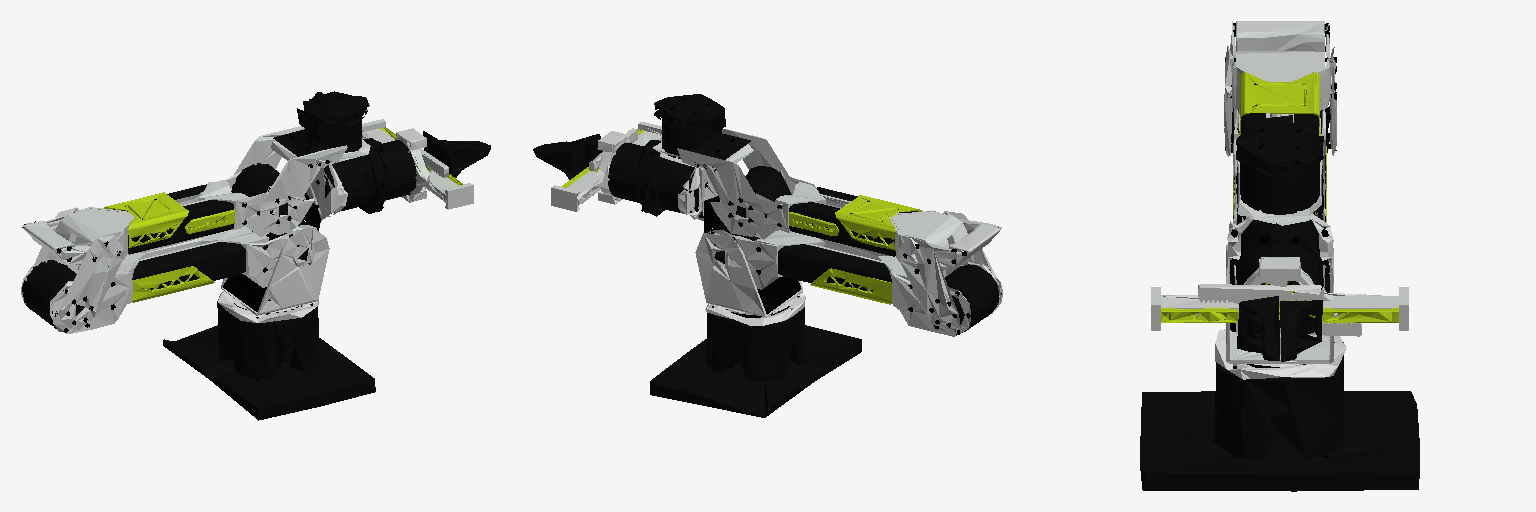
robot.urdf — ReBot_Arm_DM:
<?xml version='1.0' encoding='utf-8'?>
<robot name="ReBot_Arm_DM">
  <material name="gripper_finger_black">
    <color rgba="0.066667 0.074510 0.070588 1" />
  </material>
  <material name="gripper_carriage_grey">
    <color rgba="0.239 0.278 0.271 1" />
  </material>
  <material name="gripper_rack_metal">
    <color rgba="0.831373 0.847059 0.831373 1" />
  </material>
  <material name="gripper_seeed_yellow">
    <color rgba="0.725 0.835 0.118 1" />
  </material>
  <material name="gripper_hardware_black">
    <color rgba="0.019608 0.027451 0.023529 1" />
  </material>
  <material name="gripper_base_metal">
    <color rgba="0.831373 0.847059 0.831373 1" />
  </material>
  <material name="anodized_grey">
    <color rgba="0.831373 0.847059 0.831373 1" />
  </material>
  <material name="silver_trim">
    <color rgba="0.878431 0.890196 0.874510 1" />
  </material>
  <material name="seeed_yellow">
    <color rgba="0.73 0.84 0.12 1" />
  </material>
  <material name="matte_black">
    <color rgba="0.066667 0.074510 0.070588 1" />
  </material>
  <material name="hardware_black">
    <color rgba="0.019608 0.027451 0.023529 1" />
  </material>
  <link name="base_link">
    <inertial>
      <origin xyz="-7.849E-06 -1.1531E-06 0.029841" rpy="0 0 0" />
      <mass value="0.83660000" />
      <inertia ixx="0.00133040" ixy="0.00000001" ixz="0.00000000" iyy="0.00213119" iyz="0.00000000" izz="0.00275877" />
    </inertial>
    <visual name="base_link_silver_trim">
      <origin xyz="0 0 0" rpy="0 0 0" />
      <geometry>
        <mesh filename="../meshes/visual_lite/colored_base_link_silver_trim.stl" />
      </geometry>
      <material name="silver_trim" />
    </visual>
    <visual name="base_link_hardware_black">
      <origin xyz="0 0 0" rpy="0 0 0" />
      <geometry>
        <mesh filename="../meshes/visual_lite/colored_base_link_hardware_black.stl" />
      </geometry>
      <material name="hardware_black" />
    </visual>
    <visual name="base_link_matte_black">
      <origin xyz="0 0 0" rpy="0 0 0" />
      <geometry>
        <mesh filename="../meshes/visual_lite/colored_base_link_matte_black.stl" />
      </geometry>
      <material name="matte_black" />
    </visual>
    <collision>
      <origin xyz="0 0 0" rpy="0 0 0" />
      <geometry>
        <mesh filename="../meshes/collision/base_link.STL" />
      </geometry>
    </collision>
  </link>
  <link name="link1">
    <inertial>
      <origin xyz="0.000113614552951627 -0.000616319527051323 0.0236476372671394" rpy="0 0 0" />
      <mass value="0.16130000" />
      <inertia ixx="0.00025207" ixy="0.00000000" ixz="-0.00002832" iyy="0.00015464" iyz="0.00000000" izz="0.00023416" />
    </inertial>
    <visual name="link1_matte_black">
      <origin xyz="0 0 0" rpy="0 0 0" />
      <geometry>
        <mesh filename="../meshes/visual_lite/colored_link1_matte_black.stl" />
      </geometry>
      <material name="matte_black" />
    </visual>
    <visual name="link1_hardware_black">
      <origin xyz="0 0 0" rpy="0 0 0" />
      <geometry>
        <mesh filename="../meshes/visual_lite/colored_link1_hardware_black.stl" />
      </geometry>
      <material name="hardware_black" />
    </visual>
    <visual name="link1_anodized_grey">
      <origin xyz="0 0 0" rpy="0 0 0" />
      <geometry>
        <mesh filename="../meshes/visual_lite/colored_link1_anodized_grey.stl" />
      </geometry>
      <material name="anodized_grey" />
    </visual>
    <collision>
      <origin xyz="0 0 0" rpy="0 0 0" />
      <geometry>
        <mesh filename="../meshes/collision/link1.STL" />
      </geometry>
    </collision>
  </link>
  <joint name="joint1" type="revolute">
    <origin xyz="-8.416E-05 0 0.08465" rpy="0 0 0" />
    <parent link="base_link" />
    <child link="link1" />
    <axis xyz="0 0 1" />
    <limit lower="-2.8" upper="2.8" effort="27" velocity="50" />
  </joint>
  <link name="link2">
    <inertial>
      <origin xyz="-0.13225622308888 -0.0030617036386309 -0.0308306967030205" rpy="0 0 0" />
      <mass value="1.32660000" />
      <inertia ixx="0.00073374" ixy="-0.00000043" ixz="0.00000851" iyy="0.01255987" iyz="0.00000128" izz="0.01281387" />
    </inertial>
    <visual name="link2_seeed_yellow">
      <origin xyz="0 0 0" rpy="0 0 0" />
      <geometry>
        <mesh filename="../meshes/visual_lite/colored_link2_seeed_yellow.stl" />
      </geometry>
      <material name="seeed_yellow" />
    </visual>
    <visual name="link2_matte_black">
      <origin xyz="0 0 0" rpy="0 0 0" />
      <geometry>
        <mesh filename="../meshes/visual_lite/colored_link2_matte_black.stl" />
      </geometry>
      <material name="matte_black" />
    </visual>
    <visual name="link2_hardware_black">
      <origin xyz="0 0 0" rpy="0 0 0" />
      <geometry>
        <mesh filename="../meshes/visual_lite/colored_link2_hardware_black.stl" />
      </geometry>
      <material name="hardware_black" />
    </visual>
    <visual name="link2_anodized_grey">
      <origin xyz="0 0 0" rpy="0 0 0" />
      <geometry>
        <mesh filename="../meshes/visual_lite/colored_link2_anodized_grey.stl" />
      </geometry>
      <material name="anodized_grey" />
    </visual>
    <collision>
      <origin xyz="0 0 0" rpy="0 0 0" />
      <geometry>
        <mesh filename="../meshes/collision/link2.STL" />
      </geometry>
    </collision>
  </link>
  <joint name="joint2" type="revolute">
    <origin xyz="0.020084 0.031625 0.05555" rpy="-1.5708 0 0" />
    <parent link="link1" />
    <child link="link2" />
    <axis xyz="0 0 -1" />
    <limit lower="-3.14" upper="0" effort="27" velocity="50" />
  </joint>
  <link name="link3">
    <inertial>
      <origin xyz="0.121040035791843 -0.0536211076627949 -0.0310137854608077" rpy="0 0 0" />
      <mass value="0.83530000" />
      <inertia ixx="0.00046807" ixy="-0.00003456" ixz="-0.00004260" iyy="0.00632695" iyz="0.00000006" izz="0.00648221" />
    </inertial>
    <visual name="link3_seeed_yellow">
      <origin xyz="0 0 0" rpy="0 0 0" />
      <geometry>
        <mesh filename="../meshes/visual_lite/colored_link3_seeed_yellow.stl" />
      </geometry>
      <material name="seeed_yellow" />
    </visual>
    <visual name="link3_matte_black">
      <origin xyz="0 0 0" rpy="0 0 0" />
      <geometry>
        <mesh filename="../meshes/visual_lite/colored_link3_matte_black.stl" />
      </geometry>
      <material name="matte_black" />
    </visual>
    <visual name="link3_hardware_black">
      <origin xyz="0 0 0" rpy="0 0 0" />
      <geometry>
        <mesh filename="../meshes/visual_lite/colored_link3_hardware_black.stl" />
      </geometry>
      <material name="hardware_black" />
    </visual>
    <visual name="link3_anodized_grey">
      <origin xyz="0 0 0" rpy="0 0 0" />
      <geometry>
        <mesh filename="../meshes/visual_lite/colored_link3_anodized_grey.stl" />
      </geometry>
      <material name="anodized_grey" />
    </visual>
    <collision>
      <origin xyz="0 0 0" rpy="0 0 0" />
      <geometry>
        <mesh filename="../meshes/collision/link3.STL" />
      </geometry>
    </collision>
  </link>
  <joint name="joint3" type="revolute">
    <origin xyz="-0.264 0 0" rpy="0 0 0" />
    <parent link="link2" />
    <child link="link3" />
    <axis xyz="0 0 1" />
    <limit lower="-3.14" upper="0" effort="27" velocity="50" />
  </joint>
  <link name="link4">
    <inertial>
      <origin xyz="0.0608200956293136 -0.0511711906613122 -0.030299458623927" rpy="0 0 0" />
      <mass value="0.52000000" />
      <inertia ixx="0.00045986" ixy="0.00024219" ixz="-0.00000672" iyy="0.00075258" iyz="-0.00000535" izz="0.00066742" />
    </inertial>
    <visual name="link4_seeed_yellow">
      <origin xyz="0 0 0" rpy="0 0 0" />
      <geometry>
        <mesh filename="../meshes/visual_lite/colored_link4_seeed_yellow.stl" />
      </geometry>
      <material name="matte_black" />
    </visual>
    <visual name="link4_matte_black">
      <origin xyz="0 0 0" rpy="0 0 0" />
      <geometry>
        <mesh filename="../meshes/visual_lite/colored_link4_matte_black.stl" />
      </geometry>
      <material name="matte_black" />
    </visual>
    <visual name="link4_hardware_black">
      <origin xyz="0 0 0" rpy="0 0 0" />
      <geometry>
        <mesh filename="../meshes/visual_lite/colored_link4_hardware_black.stl" />
      </geometry>
      <material name="hardware_black" />
    </visual>
    <visual name="link4_anodized_grey">
      <origin xyz="0 0 0" rpy="0 0 0" />
      <geometry>
        <mesh filename="../meshes/visual_lite/colored_link4_anodized_grey.stl" />
      </geometry>
      <material name="anodized_grey" />
    </visual>
    <collision>
      <origin xyz="0 0 0" rpy="0 0 0" />
      <geometry>
        <mesh filename="../meshes/collision/link4.STL" />
      </geometry>
    </collision>
  </link>
  <joint name="joint4" type="revolute">
    <origin xyz="0.2426 -0.054 -0.001625" rpy="0 0 0" />
    <parent link="link3" />
    <child link="link4" />
    <axis xyz="0 0 1" />
    <limit lower="-1.87" upper="1.57" effort="7" velocity="200" />
  </joint>
  <link name="link5">
    <inertial>
      <origin xyz="-0.00502802058982517 1.73866206692364E-06 0.0386233236326755" rpy="0 0 0" />
      <mass value="0.38300000" />
      <inertia ixx="0.00019772" ixy="-0.00000062" ixz="-0.00002426" iyy="0.00021737" iyz="0.00000002" izz="0.00017191" />
    </inertial>
    <visual name="link5_matte_black">
      <origin xyz="0 0 0" rpy="0 0 0" />
      <geometry>
        <mesh filename="../meshes/visual_lite/colored_link5_matte_black.stl" />
      </geometry>
      <material name="matte_black" />
    </visual>
    <visual name="link5_hardware_black">
      <origin xyz="0 0 0" rpy="0 0 0" />
      <geometry>
        <mesh filename="../meshes/visual_lite/colored_link5_hardware_black.stl" />
      </geometry>
      <material name="hardware_black" />
    </visual>
    <visual name="link5_anodized_grey">
      <origin xyz="0 0 0" rpy="0 0 0" />
      <geometry>
        <mesh filename="../meshes/visual_lite/colored_link5_anodized_grey.stl" />
      </geometry>
      <material name="anodized_grey" />
    </visual>
    <collision>
      <origin xyz="0 0 0" rpy="0 0 0" />
      <geometry>
        <mesh filename="../meshes/collision/link5.STL" />
      </geometry>
    </collision>
  </link>
  <joint name="joint5" type="revolute">
    <origin xyz="0.078308 -0.0375 -0.03" rpy="-1.5708 0 0" />
    <parent link="link4" />
    <child link="link5" />
    <axis xyz="0 0 1" />
    <limit lower="-1.57" upper="1.57" effort="7" velocity="200" />
  </joint>
  <link name="link6">
    <inertial>
      <origin xyz="3.76418727127126E-06 -0.000100908819946677 0.0253308606425965" rpy="0 0 0" />
      <mass value="0.36630000" />
      <inertia ixx="0.00015554" ixy="-0.00000" ixz="-0.00000" iyy="0.00015554" iyz="-0.0000" izz="0.00013966" />
    </inertial>
    <visual name="link6_matte_black">
      <origin xyz="0 0 0" rpy="0 0 0" />
      <geometry>
        <mesh filename="../meshes/visual_lite/colored_link6_matte_black.stl" />
      </geometry>
      <material name="matte_black" />
    </visual>
    <visual name="link6_hardware_black">
      <origin xyz="0 0 0" rpy="0 0 0" />
      <geometry>
        <mesh filename="../meshes/visual_lite/colored_link6_hardware_black.stl" />
      </geometry>
      <material name="hardware_black" />
    </visual>
    <collision>
      <origin xyz="0 0 0" rpy="0 0 0" />
      <geometry>
        <mesh filename="../meshes/collision/link6.STL" />
      </geometry>
    </collision>
  </link>
  <joint name="joint6" type="revolute">
    <origin xyz="0.028008 0 0.04" rpy="0 1.5708 0" />
    <parent link="link5" />
    <child link="link6" />
    <axis xyz="0 0 1" />
    <limit lower="-3.14" upper="3.14" effort="7" velocity="200" />
  </joint>
  <link name="end_link">
    <inertial>
      <origin xyz="-0.0737654295815033 -9.5080995865868E-06 7.04327840286845E-06" rpy="0 0 0" />
      <mass value="0.5000000" />
      <inertia ixx="0.00037354" ixy="-0.00000011" ixz="0.00000050" iyy="0.00015830" iyz="0.00000348" izz="0.00045353" />
    </inertial>
    <visual name="gripper_base_seeed_yellow">
      <origin xyz="0 0 0" rpy="0 0 0" />
      <geometry>
        <mesh filename="../meshes/visual_lite/colored_gripper_base_seeed_yellow.stl" />
      </geometry>
      <material name="gripper_seeed_yellow" />
    </visual>
    <visual name="gripper_base_hardware_black">
      <origin xyz="0 0 0" rpy="0 0 0" />
      <geometry>
        <mesh filename="../meshes/visual_lite/colored_gripper_base_hardware_black.stl" />
      </geometry>
      <material name="gripper_hardware_black" />
    </visual>
    <visual name="gripper_base_metal">
      <origin xyz="0 0 0" rpy="0 0 0" />
      <geometry>
        <mesh filename="../meshes/visual_lite/colored_gripper_base_metal.stl" />
      </geometry>
      <material name="gripper_base_metal" />
    </visual>
    <collision>
      <origin xyz="0 0 0" rpy="0 0 0" />
      <geometry>
        <mesh filename="../meshes/collision/gripper_base.stl" />
      </geometry>
    </collision>
  </link>
  <joint name="end_joint" type="fixed">
    <origin xyz="0 0 0.15539" rpy="0 -1.5708 3.1415" />
    <parent link="link6" />
    <child link="end_link" />
    <axis xyz="0 0 0" />
  </joint>
  <link name="finger_left_link">
    <visual name="finger_left_body">
      <origin xyz="0 0 0" rpy="0 0 0" />
      <geometry>
        <mesh filename="../meshes/visual_lite/colored_left_finger_finger_black.stl" />
      </geometry>
      <material name="gripper_finger_black" />
    </visual>
    <visual name="finger_left_carriage">
      <origin xyz="0 0 0" rpy="0 0 0" />
      <geometry>
        <mesh filename="../meshes/shared/colored_left_finger_carriage_grey.stl" />
      </geometry>
      <material name="gripper_carriage_grey" />
    </visual>
    <visual name="finger_left_travel_stop">
      <origin xyz="0 0 0" rpy="0 0 0" />
      <geometry>
        <mesh filename="../meshes/shared/colored_left_finger_travel_stop_yellow.stl" />
      </geometry>
      <material name="gripper_seeed_yellow" />
    </visual>
    <visual name="finger_left_crossed_rack">
      <origin xyz="0 0 0" rpy="0 0 0" />
      <geometry>
        <mesh filename="../meshes/visual_lite/colored_left_finger_rack_metal.stl" />
      </geometry>
      <material name="gripper_rack_metal" />
    </visual>
    <collision>
      <origin xyz="0 0 0" rpy="0 0 0" />
      <geometry>
        <mesh filename="../meshes/collision/left_finger.stl" />
      </geometry>
    </collision>
  </link>
  <joint name="finger_left" type="prismatic">
    <origin xyz="0 0 0" rpy="0 0 0" />
    <parent link="end_link" />
    <child link="finger_left_link" />
    <axis xyz="0 1 0" />
    <limit lower="0" upper="0.05" effort="8" velocity="0.08" />
  </joint>
  <link name="finger_right_link">
    <visual name="finger_right_body">
      <origin xyz="0 0 0" rpy="0 0 0" />
      <geometry>
        <mesh filename="../meshes/visual_lite/colored_right_finger_finger_black.stl" />
      </geometry>
      <material name="gripper_finger_black" />
    </visual>
    <visual name="finger_right_carriage">
      <origin xyz="0 0 0" rpy="0 0 0" />
      <geometry>
        <mesh filename="../meshes/shared/colored_right_finger_carriage_grey.stl" />
      </geometry>
      <material name="gripper_carriage_grey" />
    </visual>
    <visual name="finger_right_travel_stop">
      <origin xyz="0 0 0" rpy="0 0 0" />
      <geometry>
        <mesh filename="../meshes/shared/colored_right_finger_travel_stop_yellow.stl" />
      </geometry>
      <material name="gripper_seeed_yellow" />
    </visual>
    <visual name="finger_right_crossed_rack">
      <origin xyz="0 0 0" rpy="0 0 0" />
      <geometry>
        <mesh filename="../meshes/visual_lite/colored_right_finger_rack_metal.stl" />
      </geometry>
      <material name="gripper_rack_metal" />
    </visual>
    <collision>
      <origin xyz="0 0 0" rpy="0 0 0" />
      <geometry>
        <mesh filename="../meshes/collision/right_finger.stl" />
      </geometry>
    </collision>
  </link>
  <joint name="finger_right" type="prismatic">
    <origin xyz="0 0 0" rpy="0 0 0" />
    <parent link="end_link" />
    <child link="finger_right_link" />
    <axis xyz="0 1 0" />
    <limit lower="-0.05" upper="0" effort="8" velocity="0.08" />
    <mimic joint="finger_left" multiplier="-1" offset="0" />
  </joint>
</robot>

--- What the picture shows (computed from the rendered views, not written in the file) ---
3 views of the same robot in one strip: view 1: azimuth 30°, elevation 25°; view 2: azimuth 150°, elevation 25°; view 3: azimuth 270°, elevation 25° (orthographic).
Robot: ReBot_Arm_DM — 10 links, 9 joints (6 revolute, 2 prismatic, 1 fixed); root link base_link; default pose: all joints at 0.
Links seen in each view (by area): view 1: link3, base_link, link2, link4, link1, link6, link5, end_link, finger_right_link, finger_left_link; view 2: link3, base_link, link2, link4, link1, link6, link5, end_link, finger_left_link, finger_right_link; view 3: base_link, link3, link4, end_link, finger_left_link, finger_right_link, link6, link5, link1, link2.
Link boxes in pixels (box(x1,y1,x2,y2)): link3: box(22, 163, 305, 330); base_link: box(163, 291, 375, 420); link2: box(21, 220, 319, 333); link4: box(234, 91, 370, 234); link1: box(221, 228, 329, 315); link6: box(357, 138, 416, 213); link5: box(303, 156, 367, 230); end_link: box(362, 119, 473, 209); finger_right_link: box(424, 141, 490, 191); finger_left_link: box(420, 131, 490, 177); link3: box(720, 166, 1001, 329); base_link: box(650, 293, 861, 417); link2: box(706, 222, 1002, 336); link4: box(653, 94, 789, 236); link1: box(695, 233, 802, 317); link6: box(608, 140, 667, 216); link5: box(657, 154, 721, 232); end_link: box(551, 122, 661, 211); finger_left_link: box(533, 128, 637, 179); finger_right_link: box(534, 134, 602, 203); base_link: box(1140, 329, 1419, 491); link3: box(1224, 21, 1336, 221); link4: box(1233, 115, 1326, 224); end_link: box(1151, 257, 1408, 354); finger_left_link: box(1198, 284, 1323, 361); finger_right_link: box(1236, 296, 1361, 360); link6: box(1235, 223, 1324, 300); link5: box(1227, 213, 1333, 264); link1: box(1226, 244, 1333, 363); link2: box(1233, 108, 1326, 323).
Bounding box of the posed robot: 0.5349 × 0.2 × 0.2828 m (x, y, z).
30 mesh visuals loaded from 34 distinct referenced files (30 binary STL); not drawn: 4 (reference not matched to a file when rendering).
